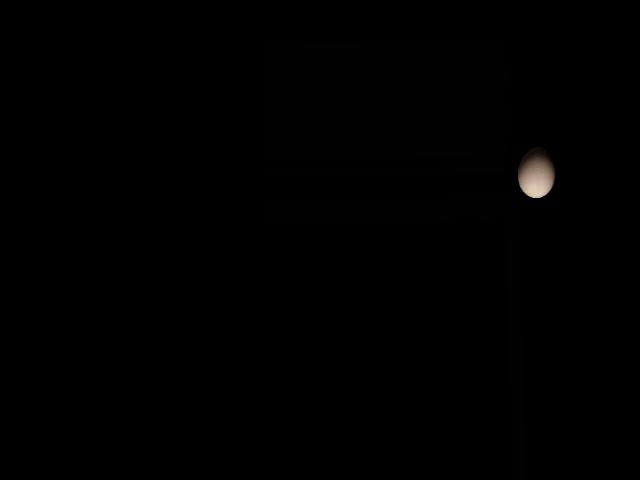egg: (517, 147, 556, 199)
